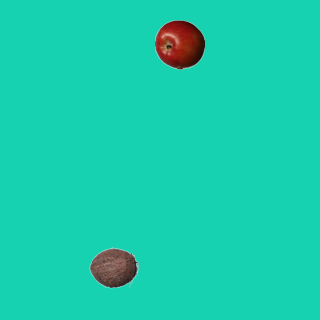Apple Braeburn: (154, 19, 204, 69)
Cocos: (88, 242, 138, 292)
